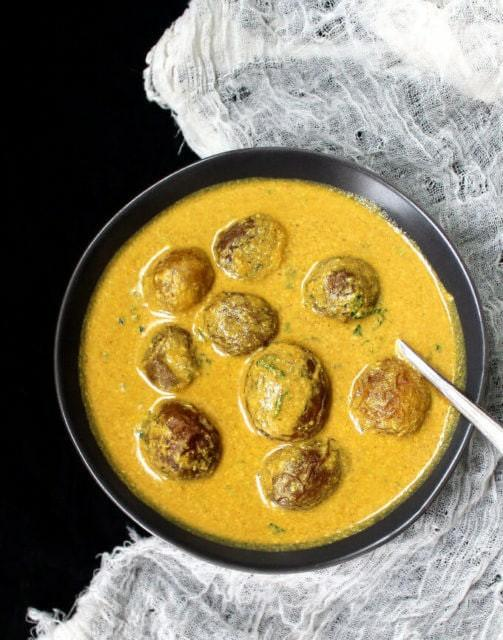DumAloo: (82, 178, 457, 544)
